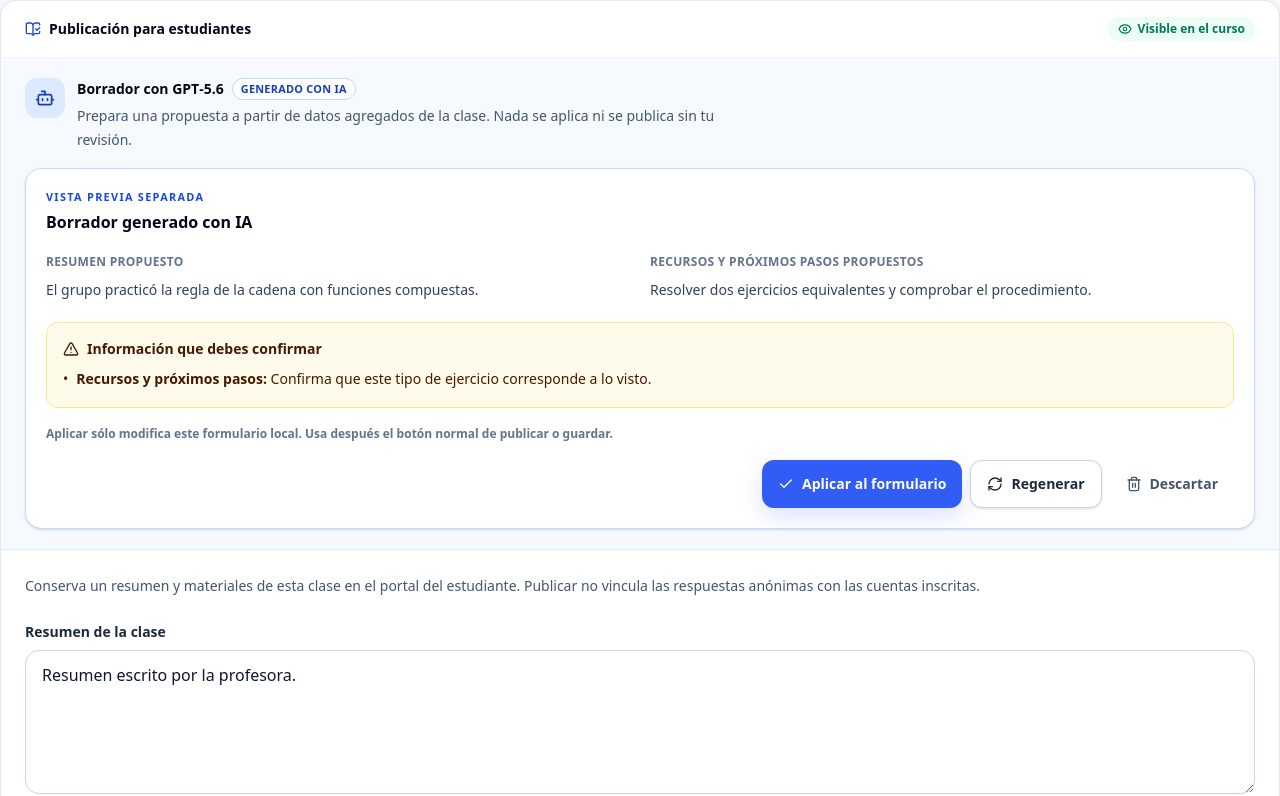
SessionPublicationPanel AI draft › cancela la confirmación con Escape y devuelve el foco
The image size is (1280, 796).
Click the button "Aplicar al formulario" at (862,484), box [762,460,962,508]
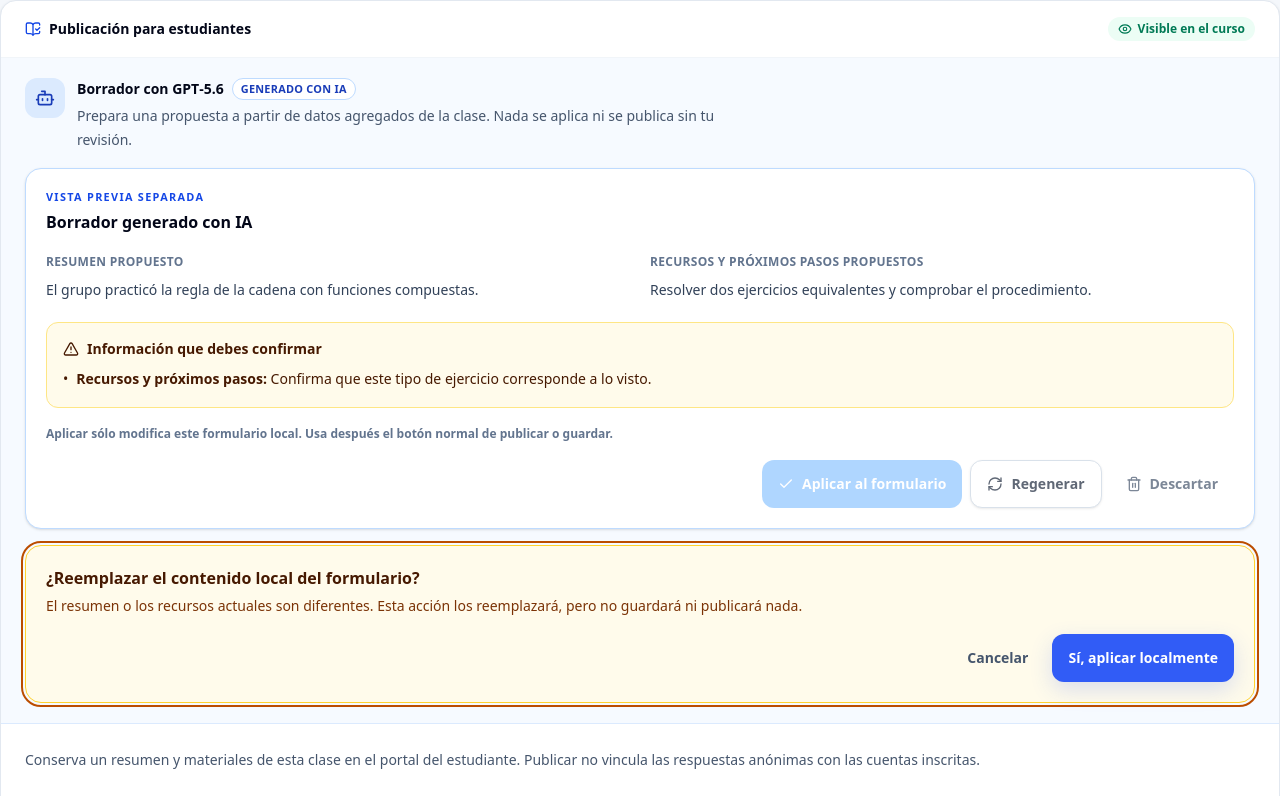
Press Escape
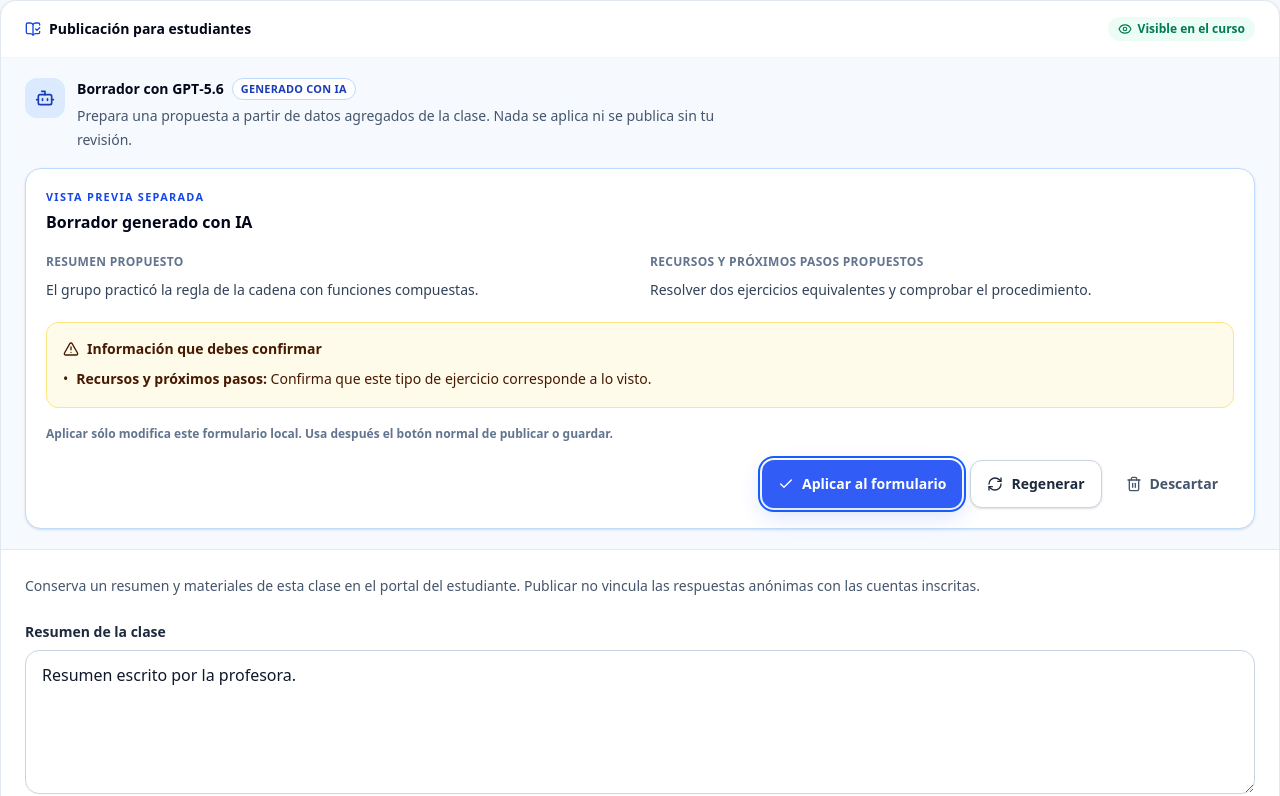
Now the text "¿Reemplazar el contenido local del formulario?" is gone
